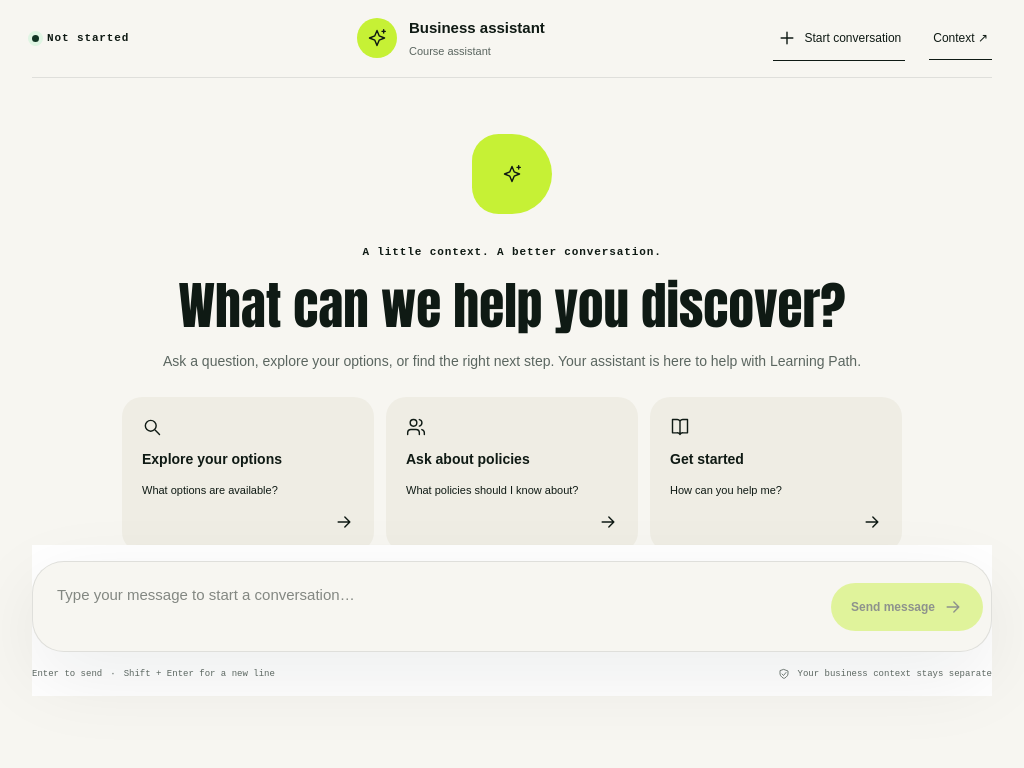
session-start failure keeps the unsent draft and permits retry
The image size is (1024, 768).
Later steps or results of the test are not shown.
Type "Keep my question" into the text box labelled "message". click: (428, 606)
box: [41,570,815,643]
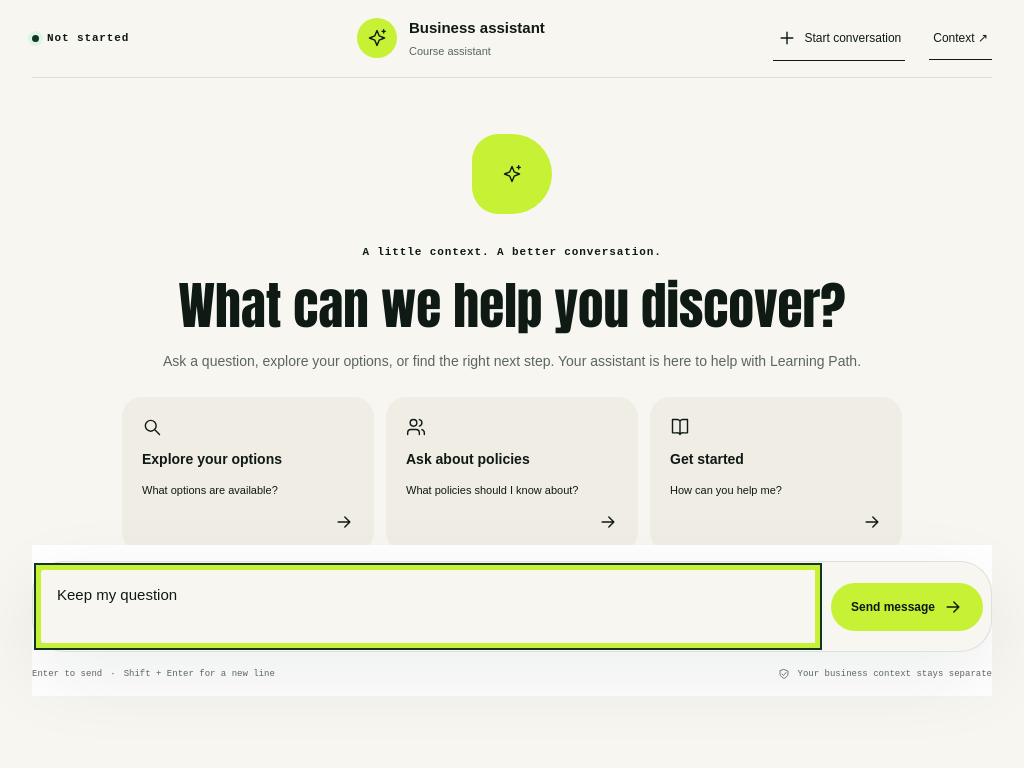
Click the button "Send message". click: (907, 606)
box: [831,582,983,630]
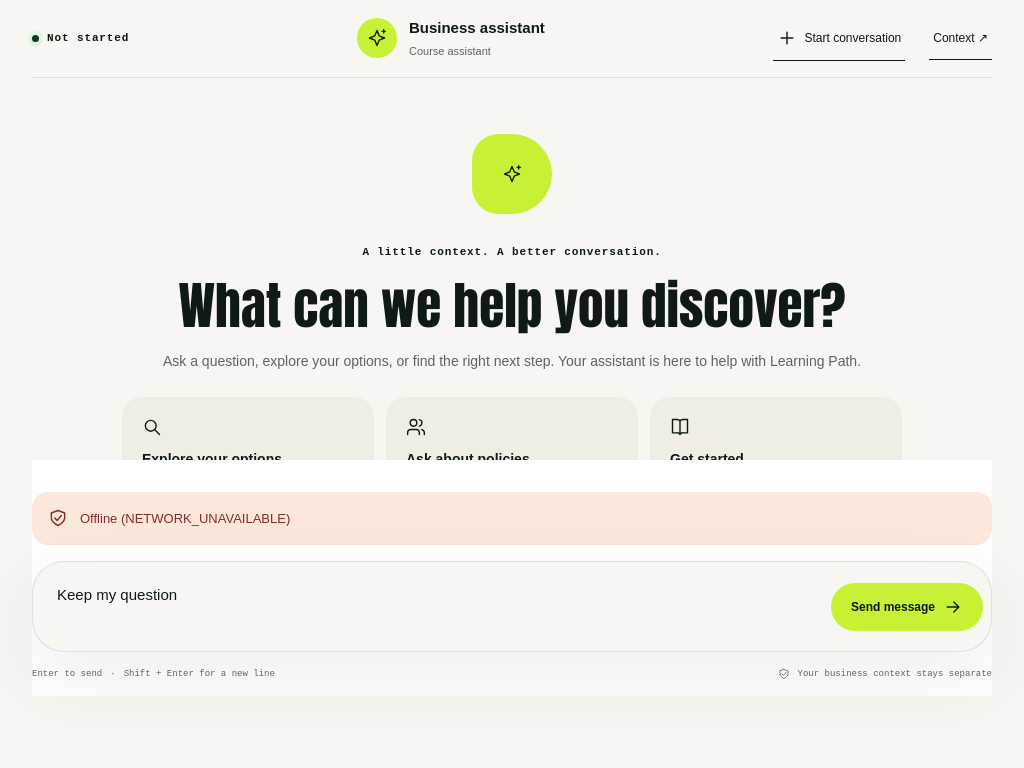
Expected: the message "Offline (NETWORK_UNAVAILABLE)" is shown, [32,492,992,545]
